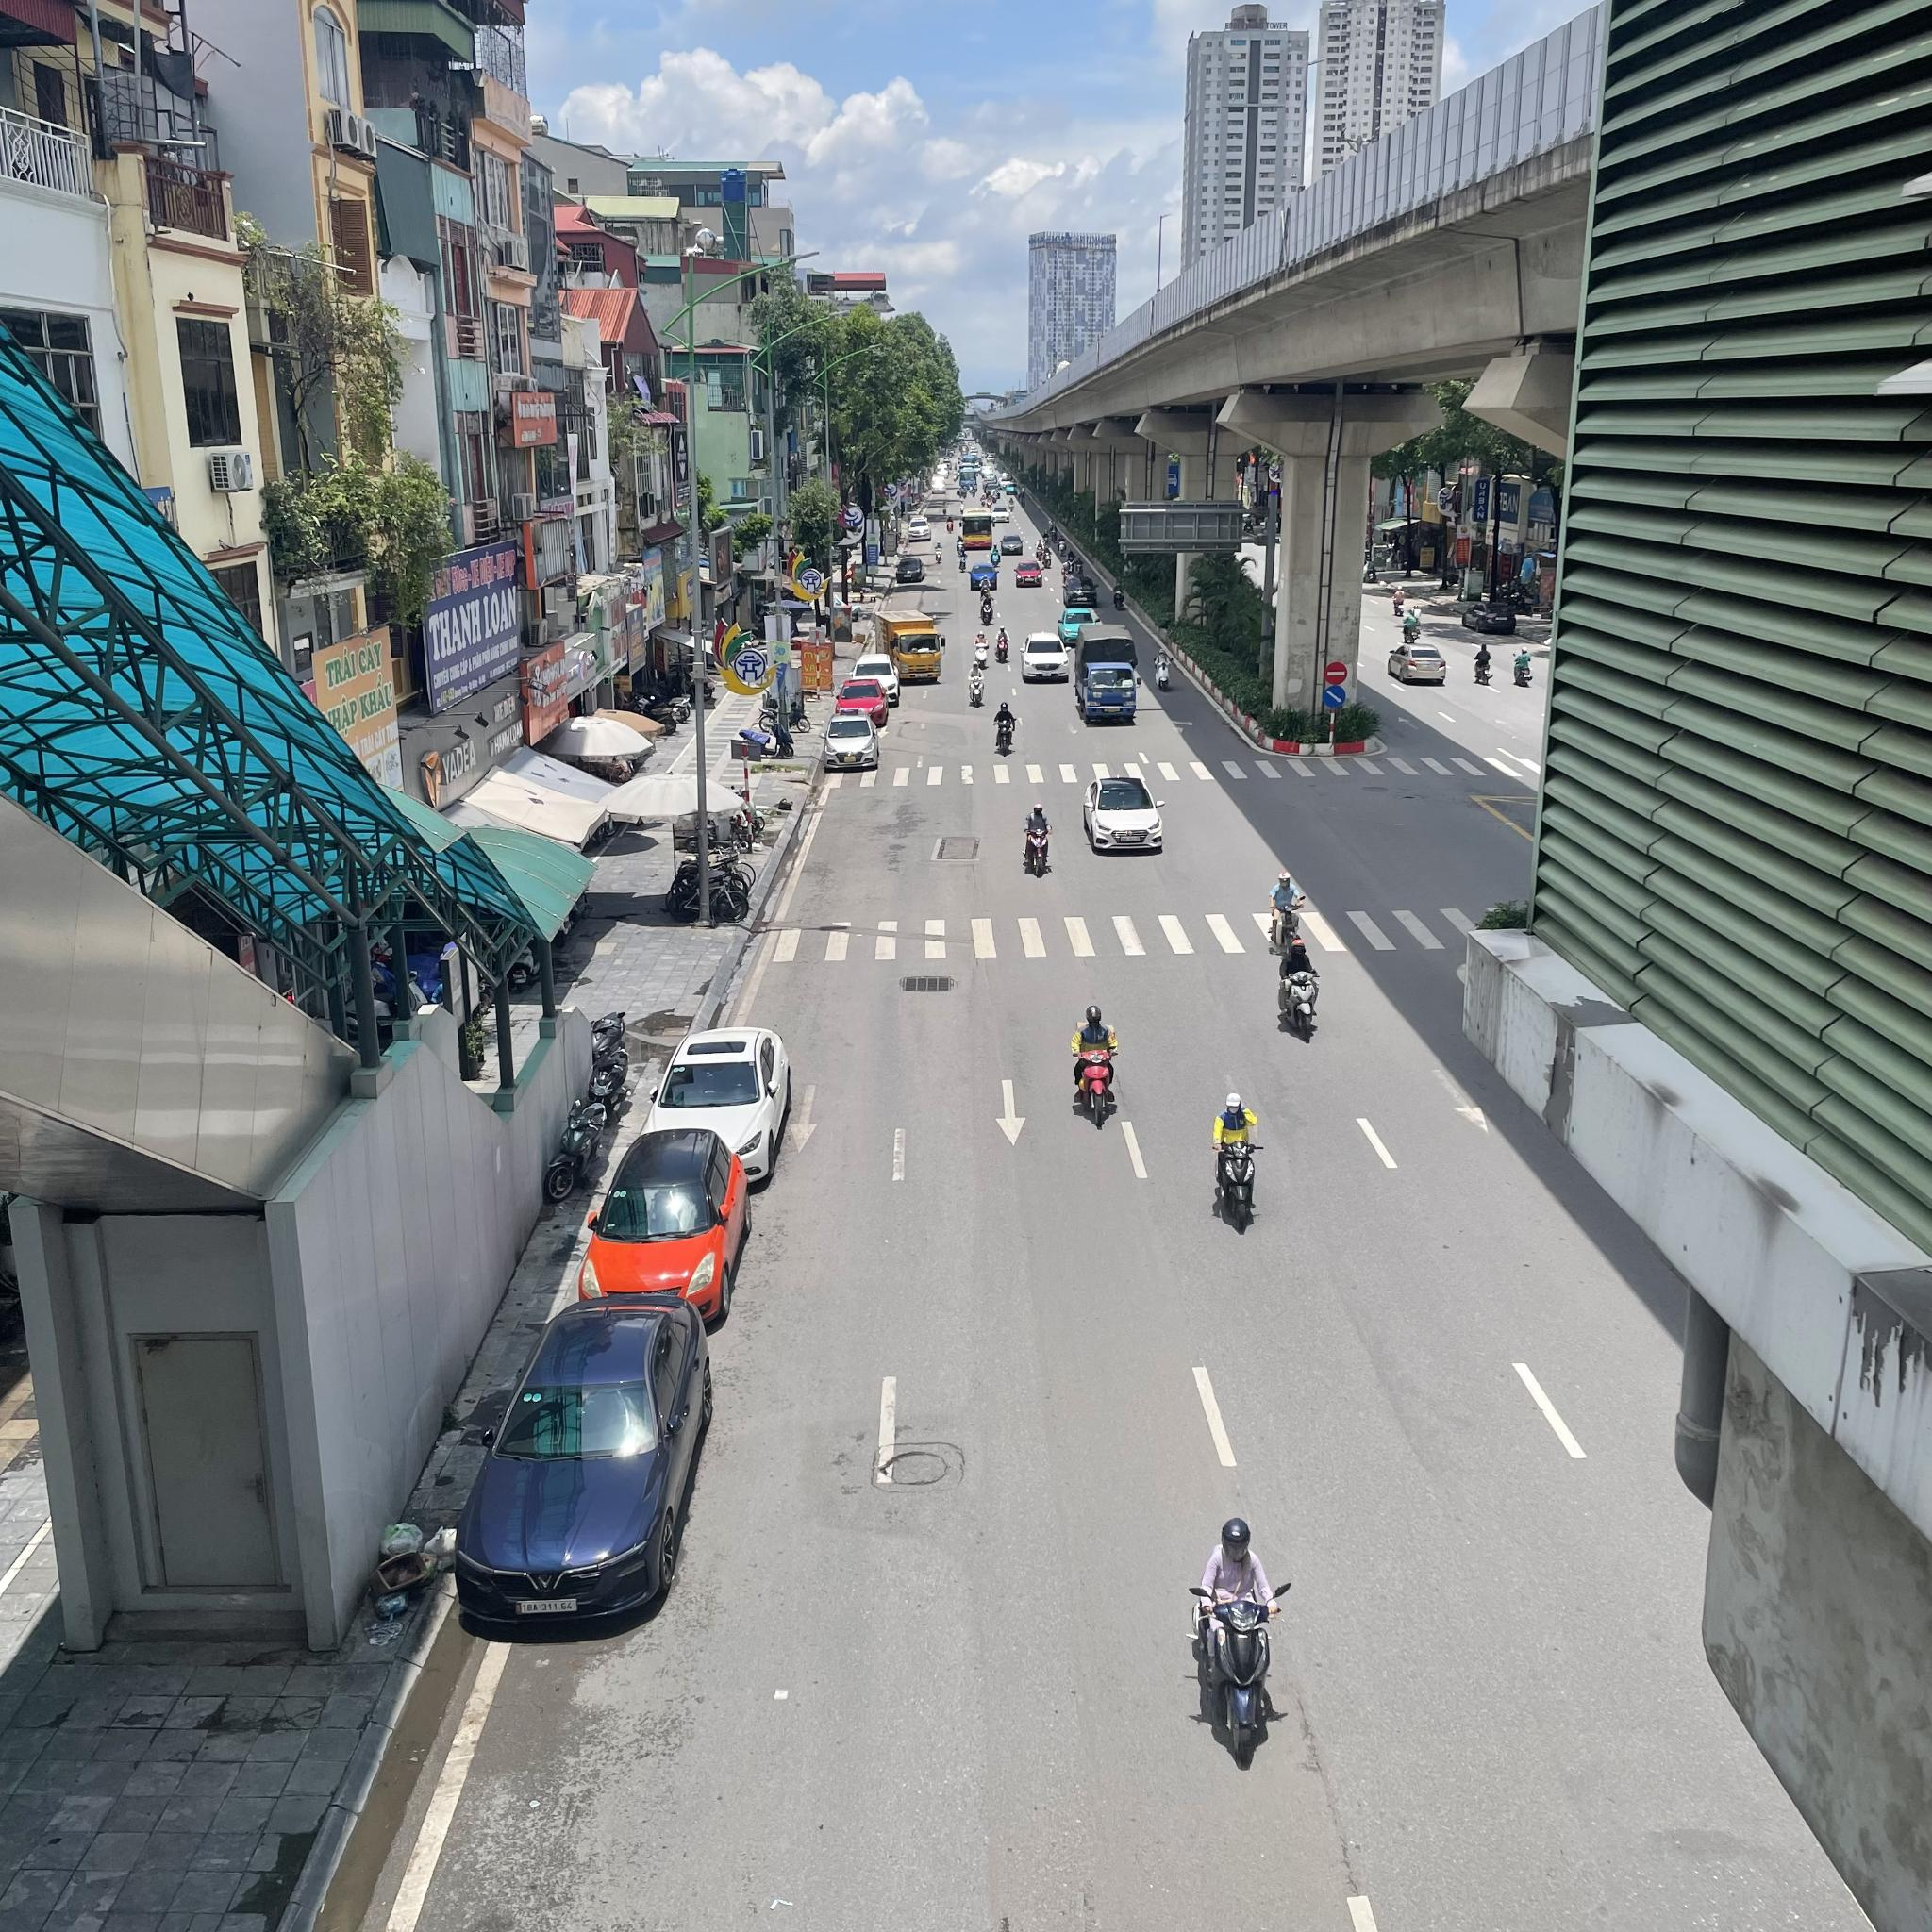car: (453, 1290, 713, 1645), (577, 1127, 752, 1323), (644, 1026, 793, 1187), (1074, 623, 1143, 722), (1083, 777, 1166, 851), (874, 609, 947, 679), (819, 713, 881, 771), (849, 651, 901, 706), (1019, 632, 1070, 683), (835, 678, 888, 727), (1056, 607, 1102, 646), (1062, 575, 1100, 609), (970, 563, 1001, 591), (1014, 561, 1044, 587), (895, 557, 925, 582), (1000, 534, 1024, 556), (991, 543, 1001, 568)
motobike: (1187, 1516, 1290, 1762), (1210, 1092, 1265, 1228), (1070, 1005, 1120, 1132), (1277, 939, 1320, 1044), (1267, 870, 1304, 954), (1021, 801, 1054, 878), (991, 701, 1017, 757), (1152, 648, 1175, 690), (968, 660, 985, 708), (971, 630, 991, 671), (994, 623, 1012, 663), (978, 589, 996, 626), (1113, 580, 1127, 610), (978, 573, 993, 602), (955, 534, 966, 557), (934, 541, 943, 564), (959, 550, 968, 571)
